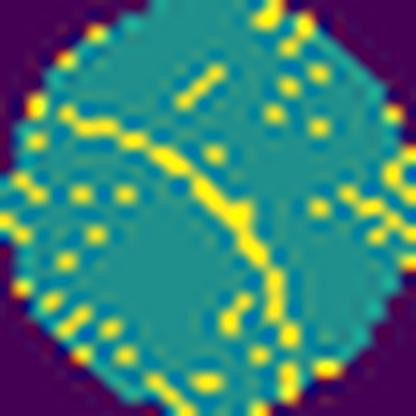Scratch: (55, 104, 302, 359)
